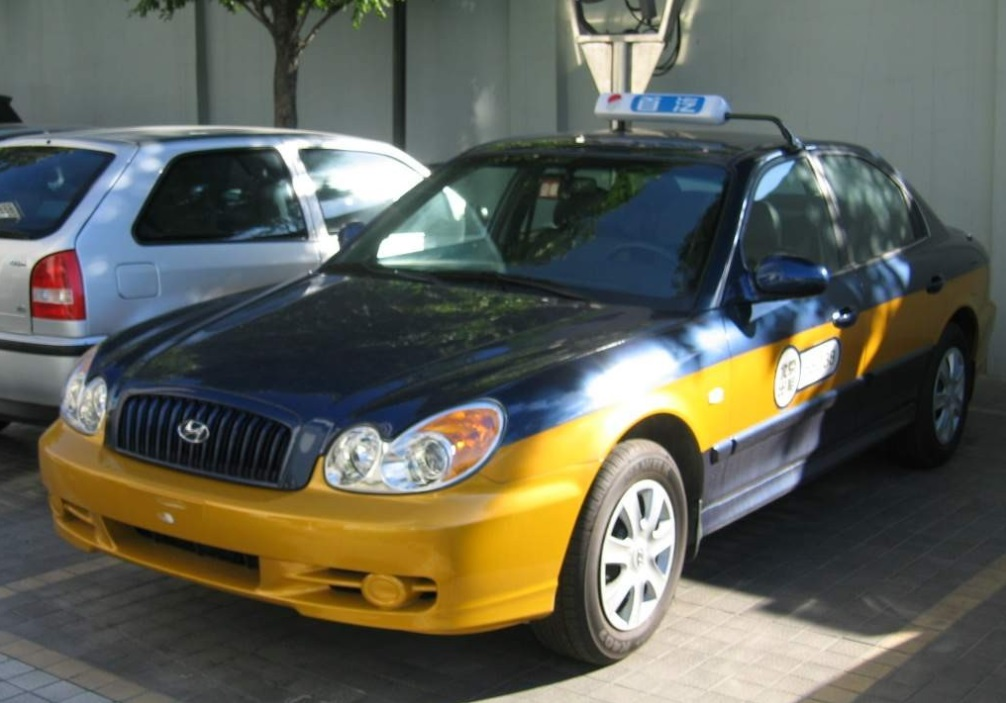taxi: (35, 90, 999, 668)
